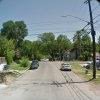Tree: (4, 13, 59, 59)
